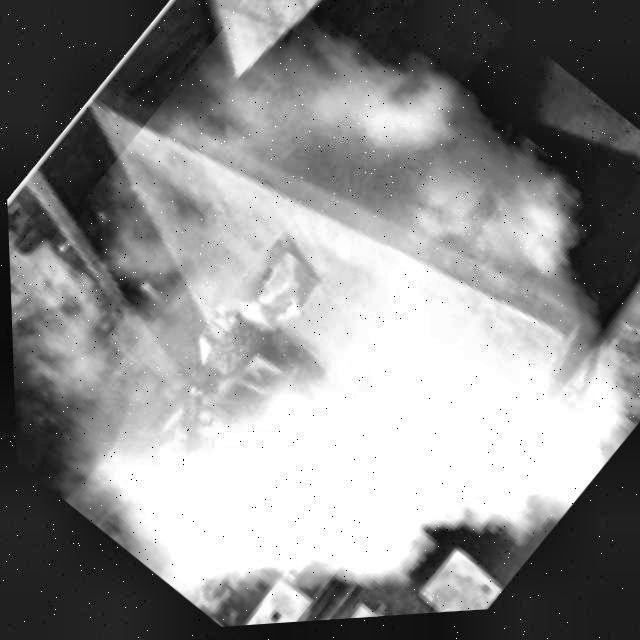Smoke: (8, 0, 640, 630)
